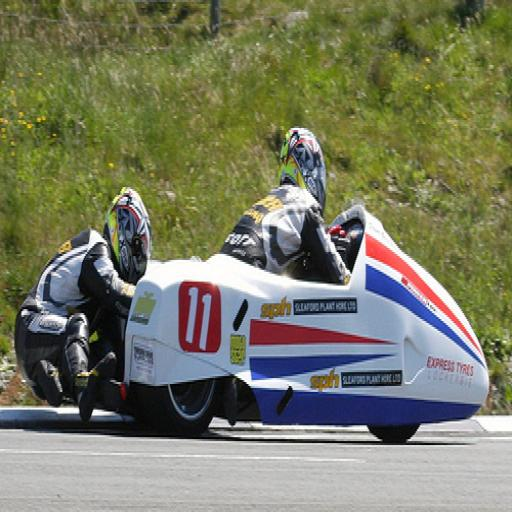person: (14, 183, 152, 424), (220, 112, 355, 292)
vehicle: (119, 198, 490, 444)
